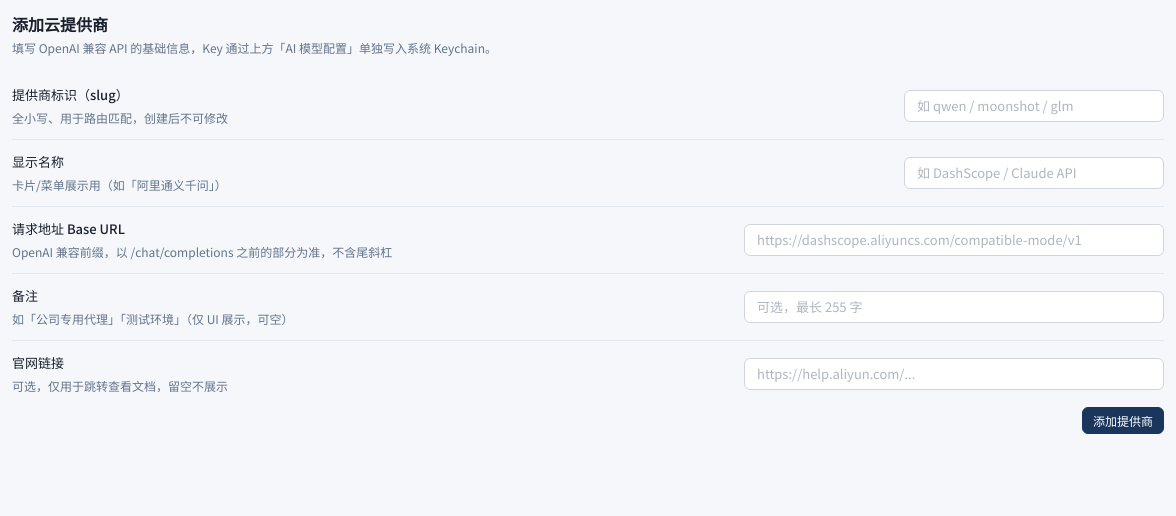
Test: CloudProviderFormCard › should block submit with invalid slug and show error
What coordinates should you click on to do the following:
click the button "添加提供商"
I would click on:
 (1123, 420)
Its box is 1082,407 -> 1164,434.
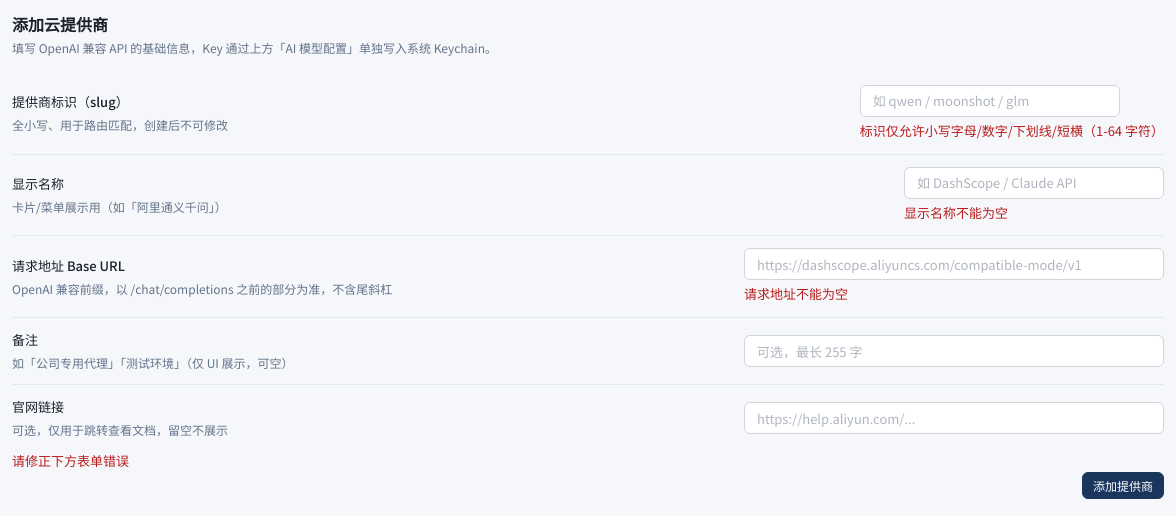
Result: the text "标识仅允许小写字母/数字/下划线/短横（1-64 字符）" is shown at 860,121 -> 1164,142
